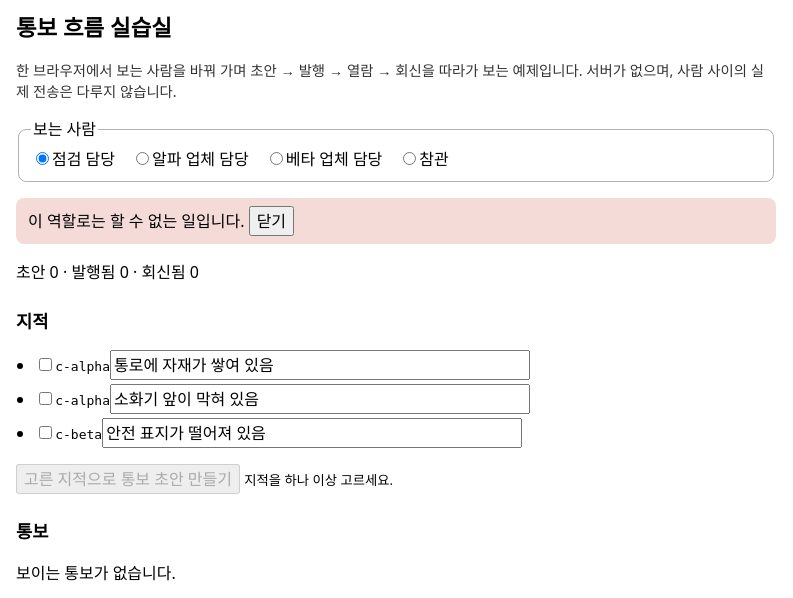
Scenario: the screen › a request that is refused anyway (a stale screen, a direct call) says why
The width and height of the screenshot is (793, 598).
Expected: the message shows "이 역할로는 할 수 없는 일입니다.", [28,210,244,232]
Expected: the text with test id "counts" reads "초안 0 · 발행됨 0 · 회신됨 0", [16,261,199,283]
Click the button "닫기": point(271, 221) [249,206,294,236]
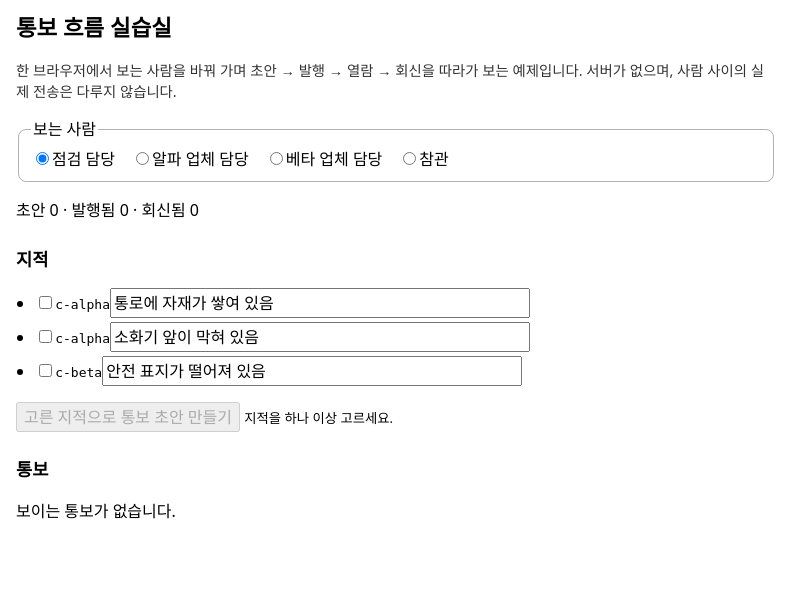
Now the message "이 역할로는 할 수 없는 일입니다. 닫기" is gone
